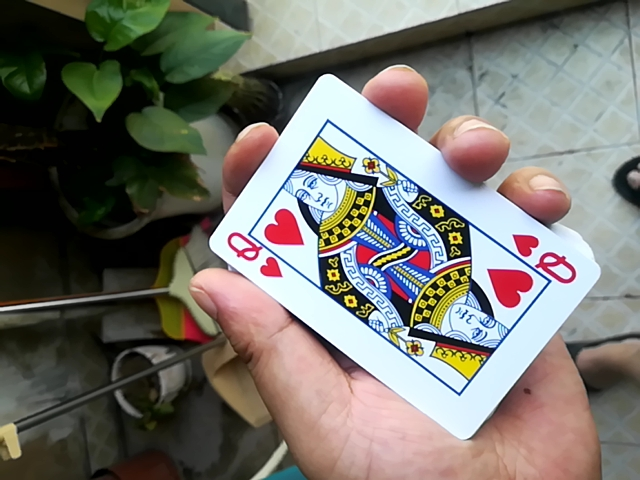hx q: (194, 67, 607, 446)
